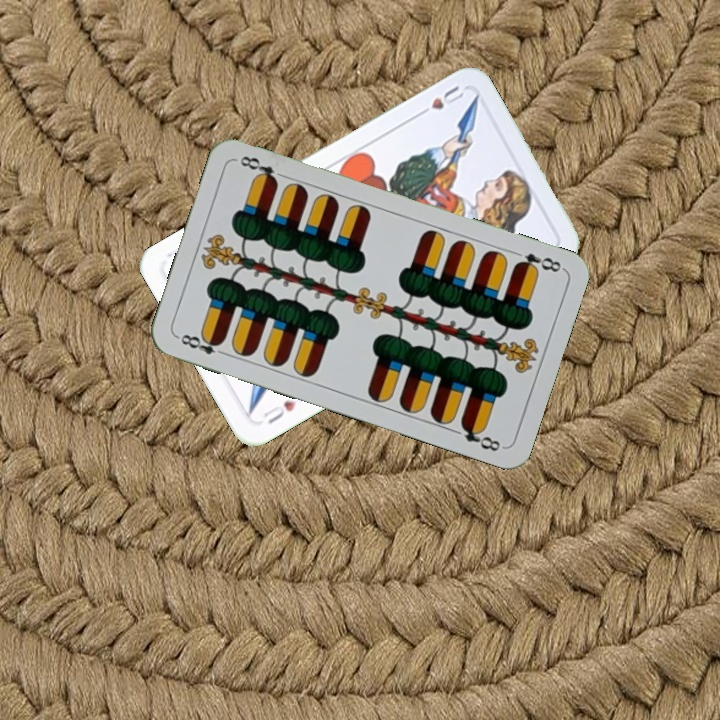E8: (173, 329, 231, 359), (510, 249, 566, 276)
HU: (413, 81, 467, 119), (259, 391, 309, 427)
